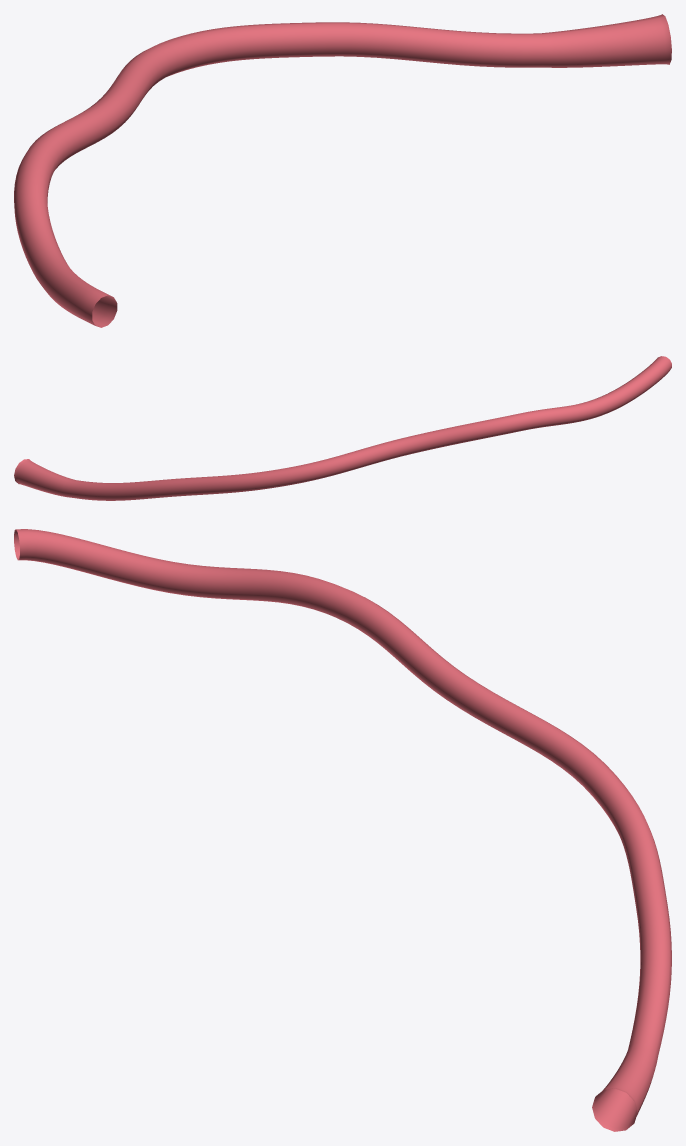
3 renders of one model, top to bottom at view 1: azimuth 30°, elevation 25°; view 2: azimuth 150°, elevation 25°; view 3: azimuth 270°, elevation 25°, orthographic. The views are drawn at different scales.
Visible parts, largest first — view 1: ZA_8e144d30c66e0b91; view 2: ZA_8e144d30c66e0b91; view 3: ZA_8e144d30c66e0b91.
Part boxes in pixels (x1=…): ZA_8e144d30c66e0b91: x1=14, y1=14, x2=671, y2=327; ZA_8e144d30c66e0b91: x1=14, y1=356, x2=671, y2=500; ZA_8e144d30c66e0b91: x1=14, y1=529, x2=671, y2=1131.
Bounding box in the file's own units: 0.061 × 0.0141 × 0.0416.
